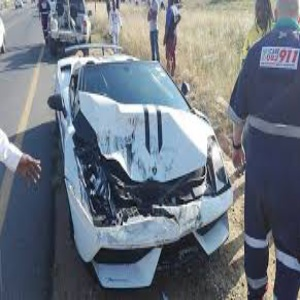bonnet: (80, 95, 210, 178)
bumper: (124, 202, 205, 240)
